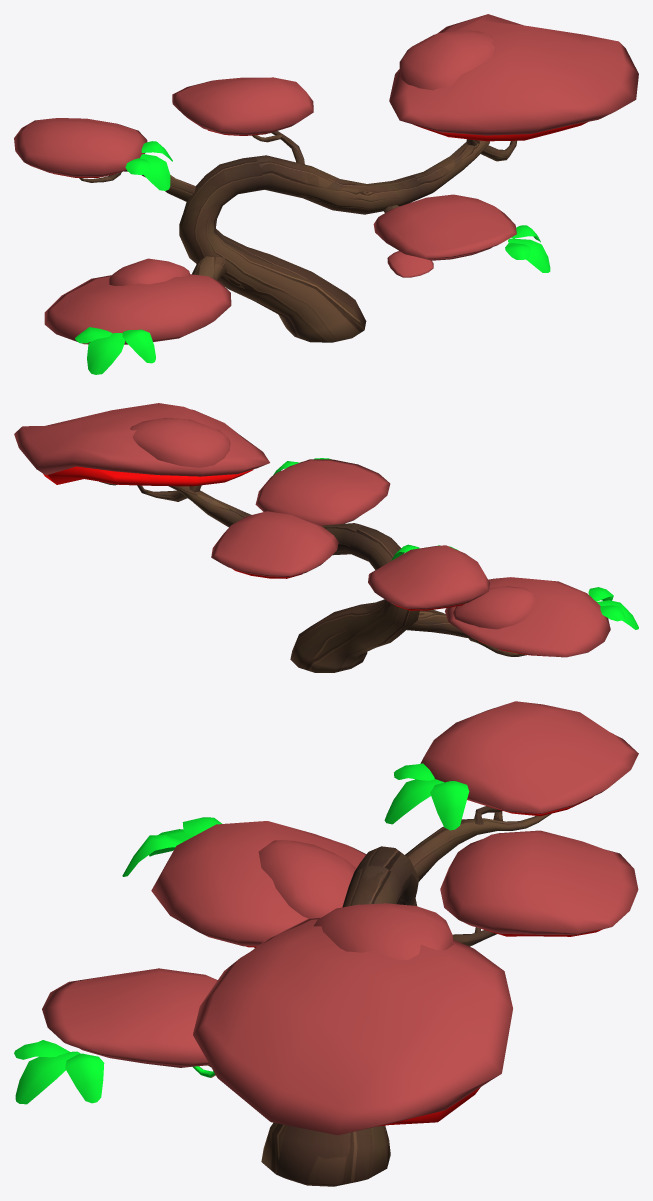
File: SM_Tree_big_02.fbx
3 renders of one model, top to bottom at view 1: azimuth 30°, elevation 25°; view 2: azimuth 150°, elevation 25°; view 3: azimuth 270°, elevation 25°, orthographic. The views are drawn at different scales.
Parts seen in each view (by area): view 1: SM_Tree_big_02.005; view 2: SM_Tree_big_02.005; view 3: SM_Tree_big_02.005.
Boxes of the visible parts, <box> form: SM_Tree_big_02.005: <box>14,14,638,374</box>; SM_Tree_big_02.005: <box>14,403,638,672</box>; SM_Tree_big_02.005: <box>14,701,638,1186</box>.
Bounding box in the file's own units: 17.6 × 6.6 × 10.27.
